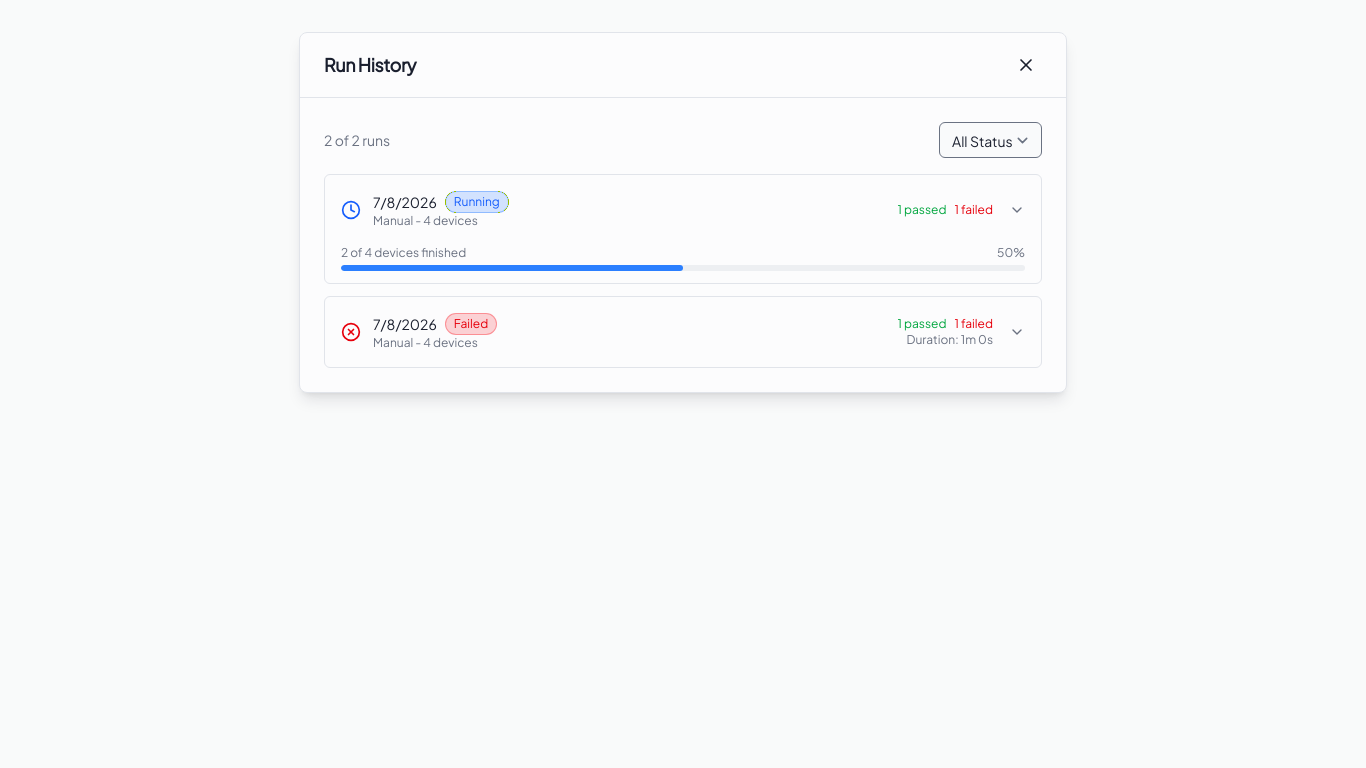
it: AutomationRunHistory — live progress + per-device results (#2023) › filters runs by status
Select "Failed" in the dropdown showing "All Status": coordinates (990, 140) [939, 122, 1042, 158]
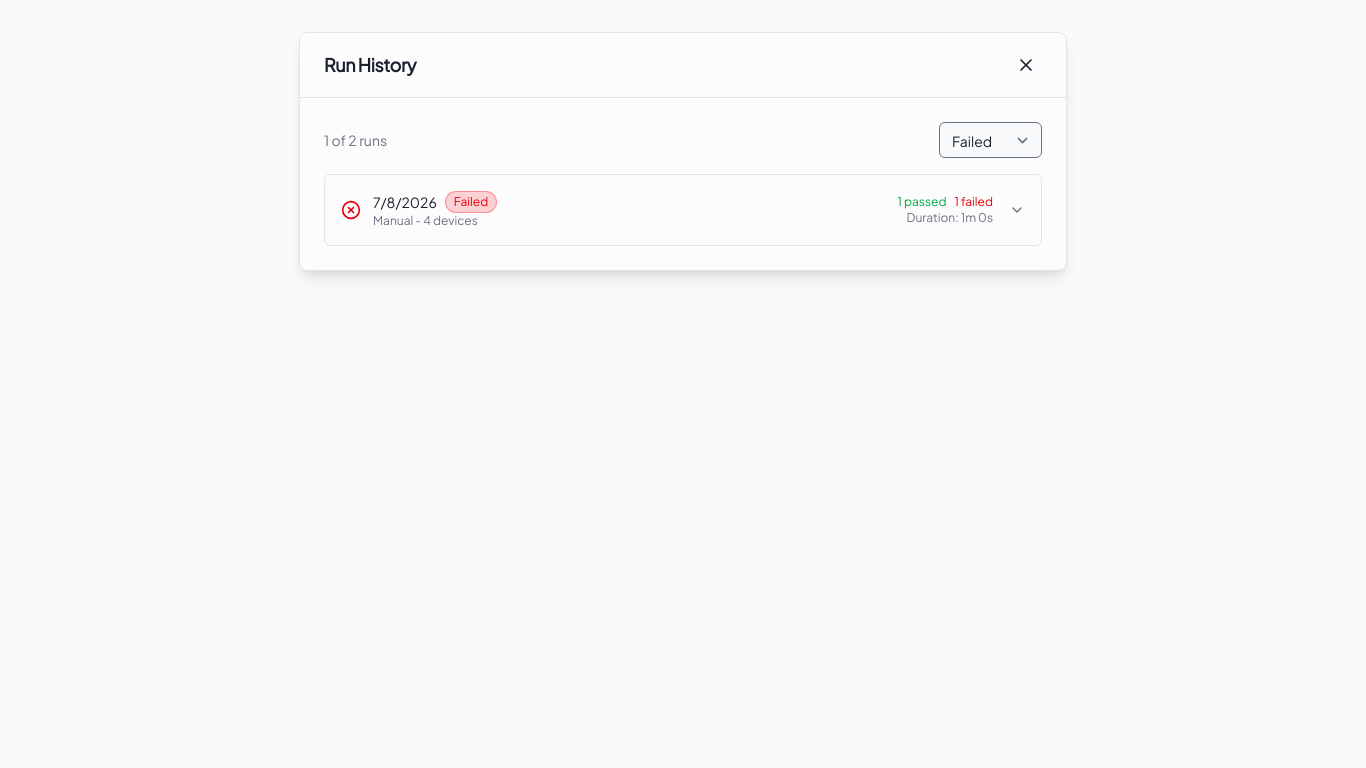
Result: the text "1 of 2 runs" is shown at [324, 130, 387, 150]
